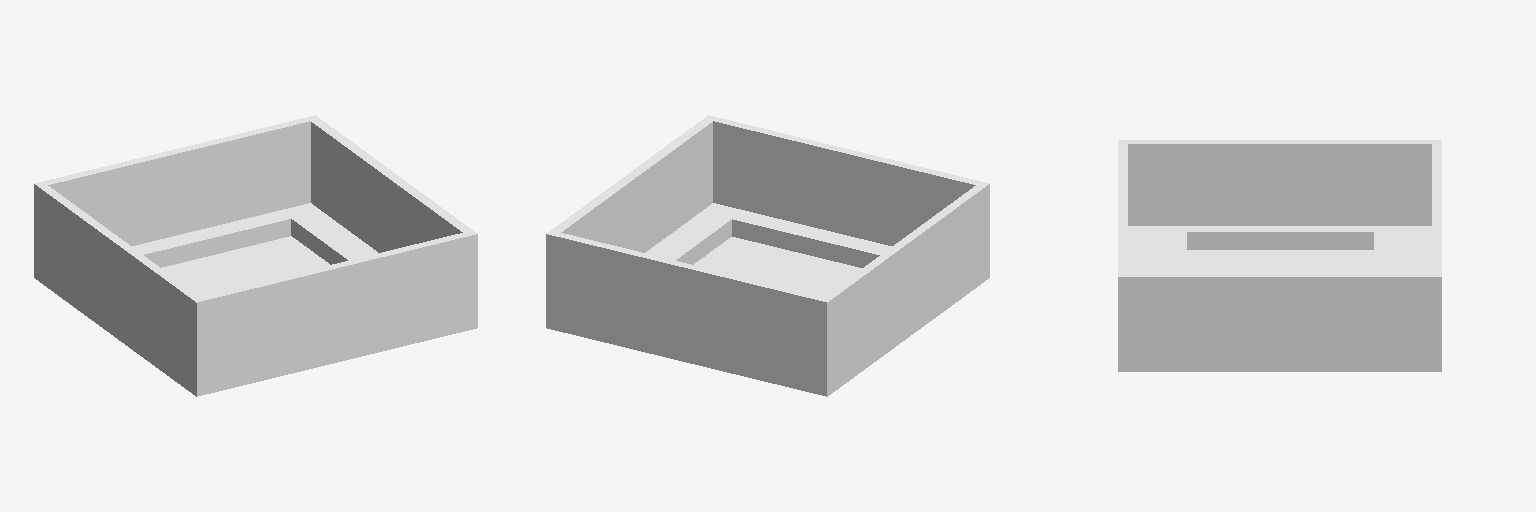
The model's file is Entrenamiento.obj.
The picture shows the model from 3 angles: view 1: azimuth 30°, elevation 25°; view 2: azimuth 150°, elevation 25°; view 3: azimuth 270°, elevation 25°; orthographic projection.
Visible parts, largest first — view 1: object 1; view 2: object 1; view 3: object 1.
Boxes of the visible parts, x1,y1,x2,y2 form: object 1: [34, 115, 477, 396]; object 1: [546, 115, 989, 396]; object 1: [1118, 140, 1441, 371].
Bounding box in the file's own units: 25.6 × 8.2 × 25.6.